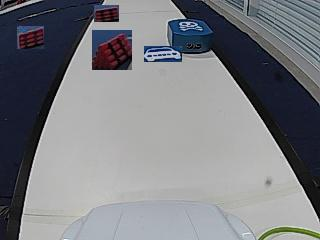danger: (179, 20, 202, 31)
